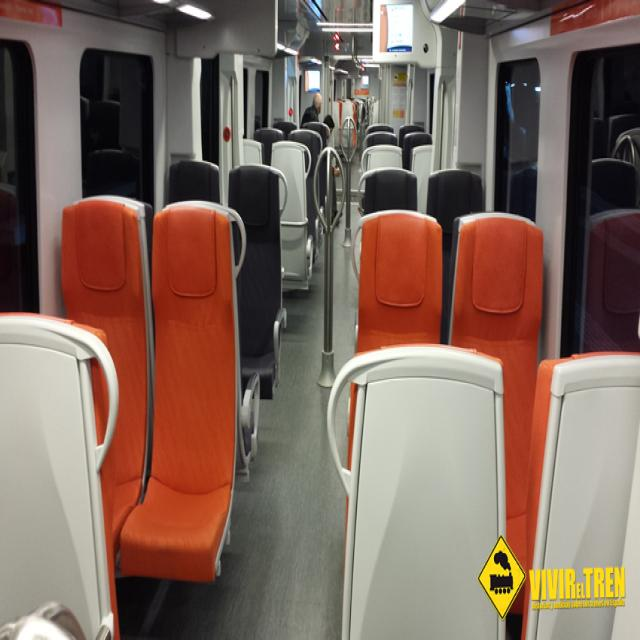seient: (125, 204, 236, 581), (62, 198, 154, 552), (449, 213, 542, 408), (229, 164, 288, 398), (356, 211, 442, 352), (169, 160, 220, 204)
